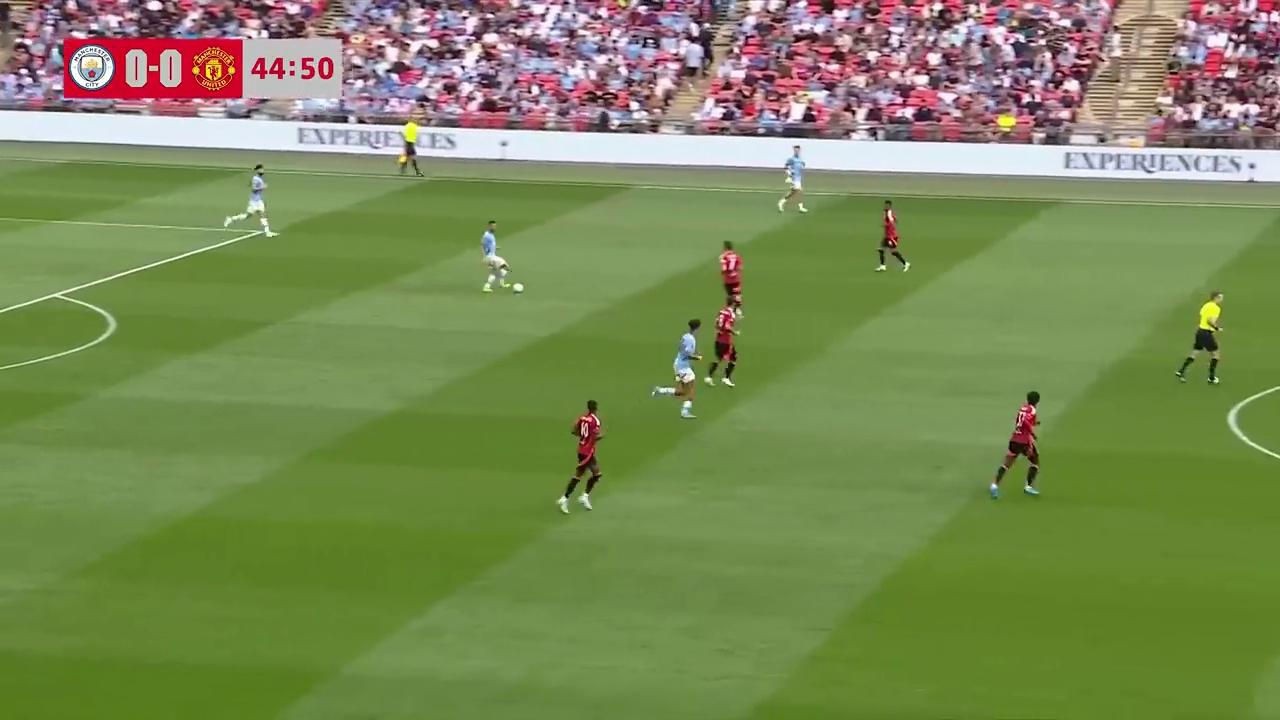ball: (511, 279, 525, 294)
player: (989, 391, 1041, 499), (555, 400, 604, 513), (657, 321, 701, 419), (705, 300, 741, 387), (240, 163, 274, 237), (875, 200, 909, 272), (777, 145, 810, 214), (479, 220, 510, 292), (719, 241, 743, 318)
referee: (1175, 290, 1224, 385), (396, 118, 423, 177)
